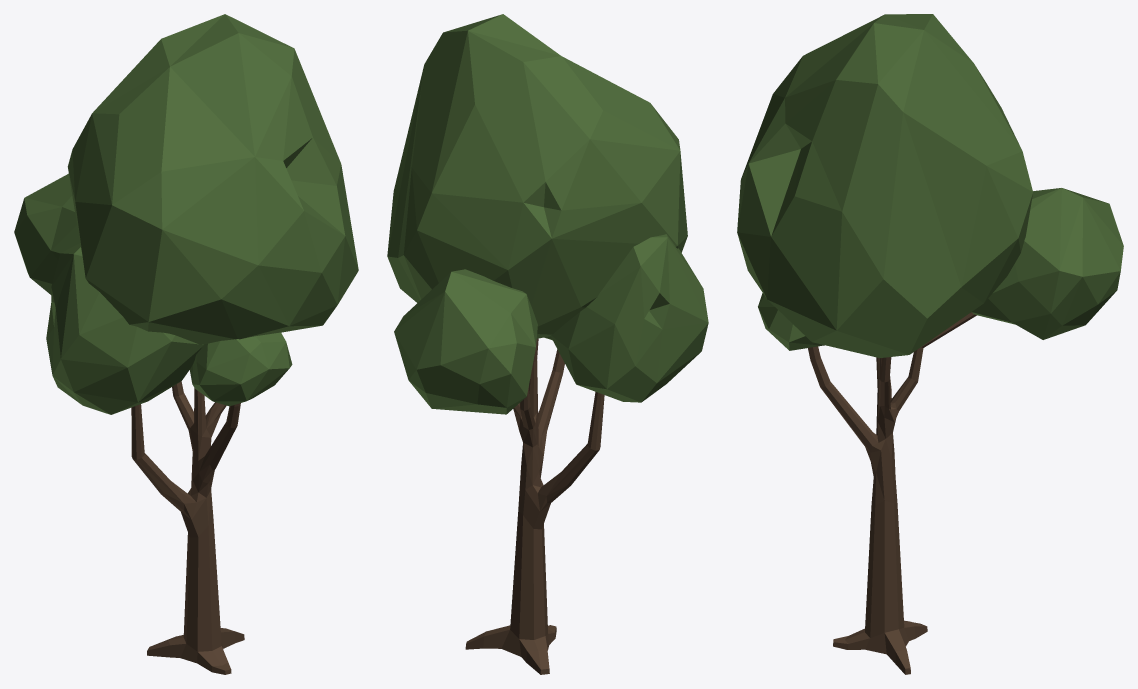
The model's file is SM_Envr_Nature_Farm_Tree_Guava_Young.fbx.
3 views of the same model, side by side, from view 1: azimuth 30°, elevation 25°; view 2: azimuth 150°, elevation 25°; view 3: azimuth 270°, elevation 25° (orthographic). The views are drawn at different scales.
Parts seen in each view (by area): view 1: SM_Envr_Nature_Farm_Tree_Guava_Young; view 2: SM_Envr_Nature_Farm_Tree_Guava_Young; view 3: SM_Envr_Nature_Farm_Tree_Guava_Young.
Boxes of the visible parts, left/top/right/bottom form: SM_Envr_Nature_Farm_Tree_Guava_Young: left=14, top=14, right=358, bottom=674; SM_Envr_Nature_Farm_Tree_Guava_Young: left=387, top=14, right=708, bottom=674; SM_Envr_Nature_Farm_Tree_Guava_Young: left=737, top=14, right=1123, bottom=674.
Size of the model in its own units: 291 by 586 by 320.
